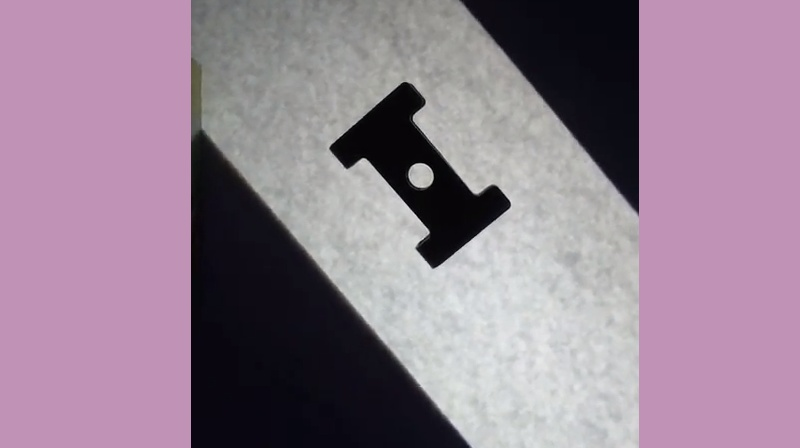O002: (326, 77, 515, 268)
